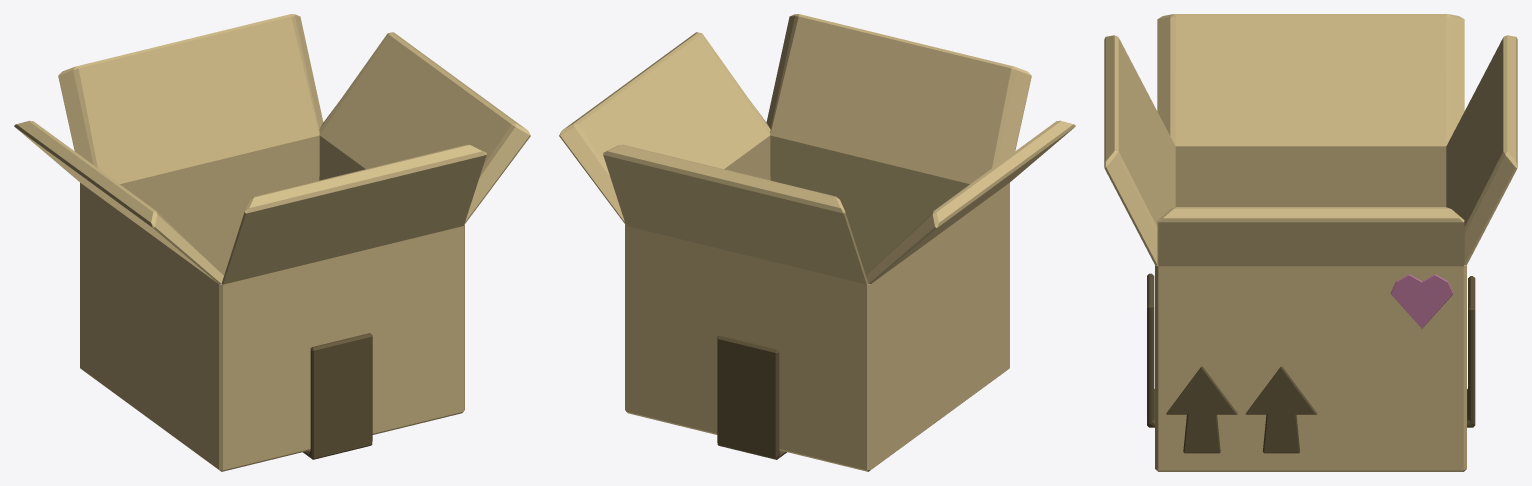
The model's file is SM_CardboardOpen.fbx.
The picture shows the model from 3 angles, left to right: view 1: azimuth 30°, elevation 25°; view 2: azimuth 150°, elevation 25°; view 3: azimuth 270°, elevation 25°; orthographic projection. The views are drawn at different scales.
Visible parts, largest first — view 1: Cube.021; view 2: Cube.021; view 3: Cube.021.
Part boxes in pixels (box(x1,y1,x2,y2)): Cube.021: box(14, 14, 530, 471); Cube.021: box(559, 14, 1075, 471); Cube.021: box(1104, 14, 1517, 471).
Size of the model in its own units: 68.79 by 79.86 by 59.01.
